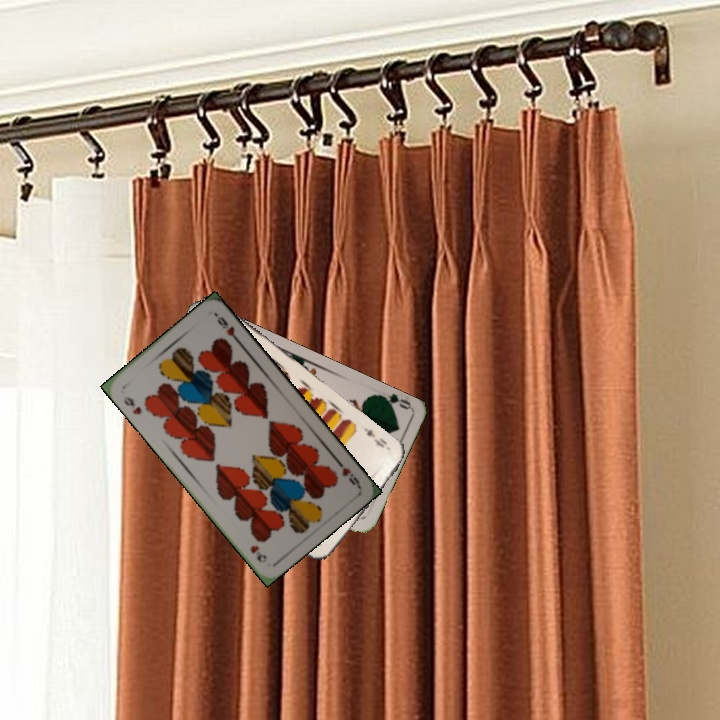E9: (360, 424, 390, 450)
GO: (373, 390, 413, 413)
H9: (332, 455, 363, 489), (119, 392, 144, 417)
